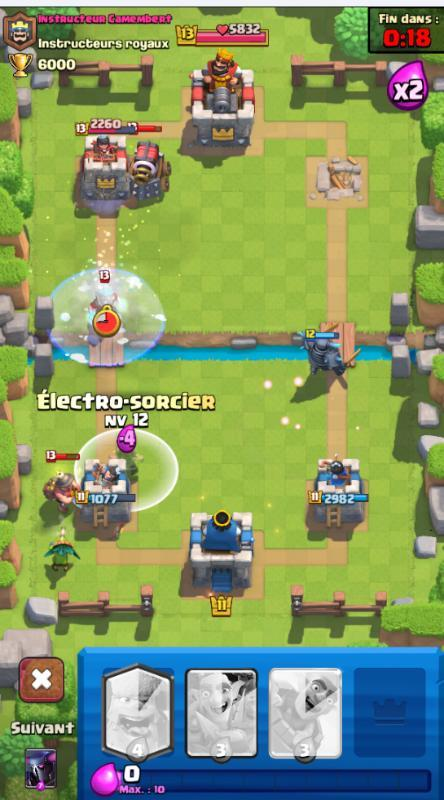enemy_ice_wizard: (82, 268, 124, 314)
enemy_miner: (37, 450, 84, 514)
enemy_sparky: (125, 136, 173, 200)
player_dart_goblin: (38, 522, 85, 579)
player_pekka: (288, 322, 361, 378)
